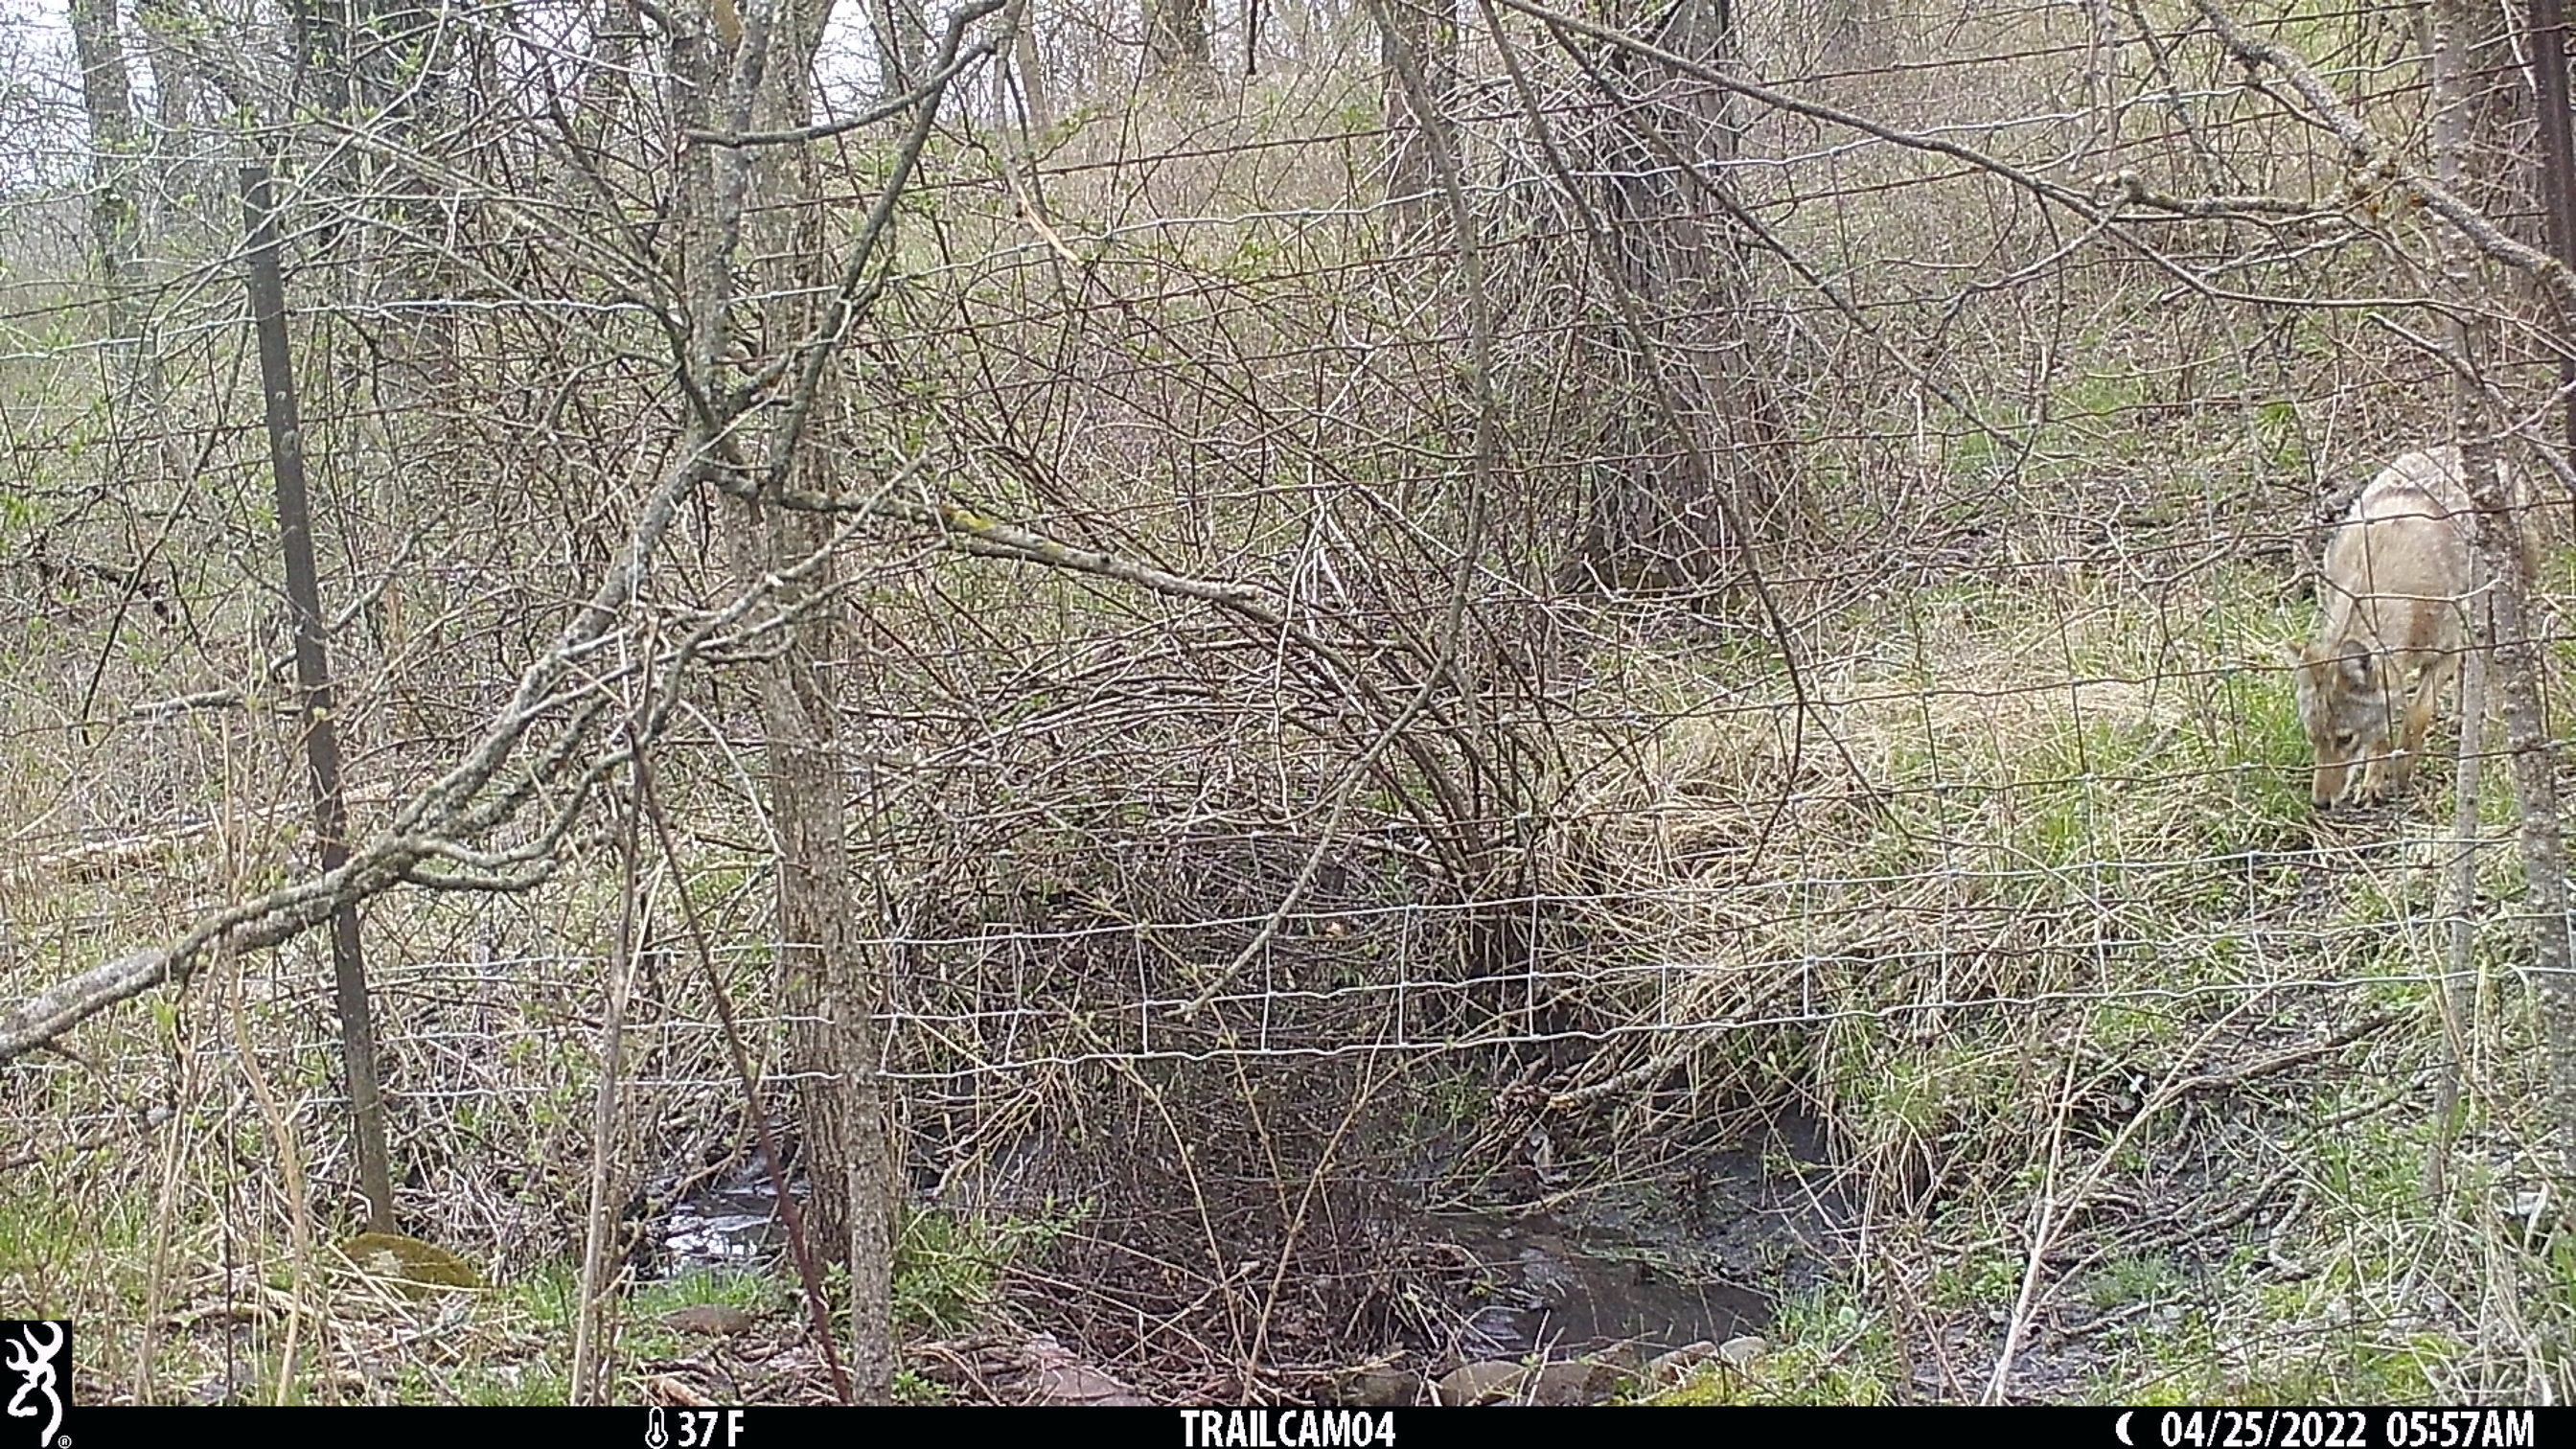Coyote: (2293, 444, 2541, 814)
